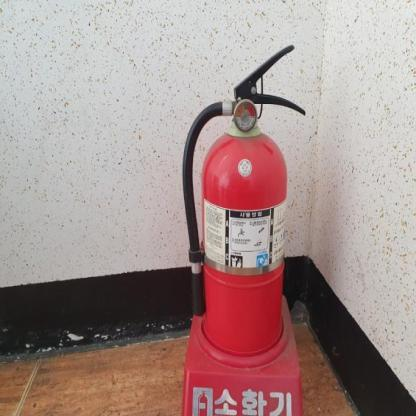Fire Extinguisher: (174, 37, 340, 363)
